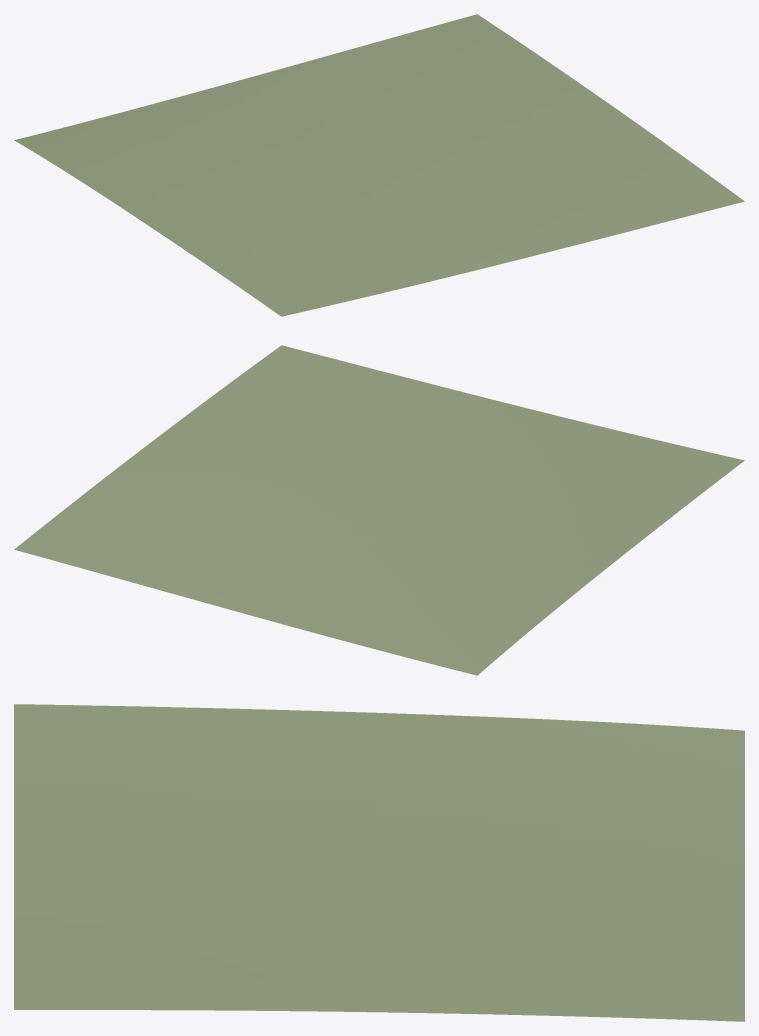
File: expanse-27-12.glb
The picture shows the model from 3 angles, top to bottom: view 1: azimuth 30°, elevation 25°; view 2: azimuth 150°, elevation 25°; view 3: azimuth 270°, elevation 25°; orthographic projection. The views are drawn at different scales.
Visible parts, largest first — view 1: expanse-27-12; view 2: expanse-27-12; view 3: expanse-27-12.
Boxes of the visible parts, box(x1,y1,x2,y2) form: expanse-27-12: box(14, 14, 744, 316); expanse-27-12: box(14, 345, 744, 675); expanse-27-12: box(14, 704, 744, 1021).
Size of the model in its own units: 256 by 11.41 by 256.
